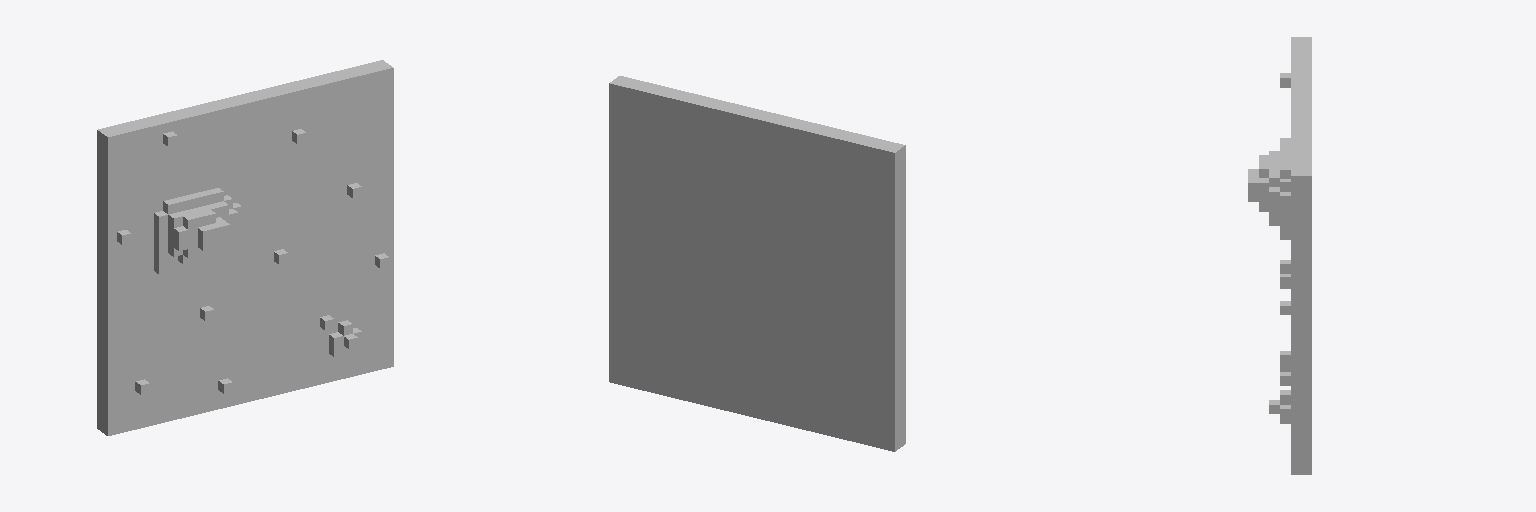
File: Park.obj
3 renders of one model, left to right at view 1: azimuth 30°, elevation 25°; view 2: azimuth 150°, elevation 25°; view 3: azimuth 270°, elevation 25°, orthographic.
Visible parts, largest first — view 1: Park; view 2: Park; view 3: Park.
Boxes of the visible parts, box(x1,y1,x2,y2) form: Park: box(97, 60, 393, 435); Park: box(609, 76, 905, 451); Park: box(1248, 37, 1311, 474).
Size of the model in its own units: 31 by 31 by 6.